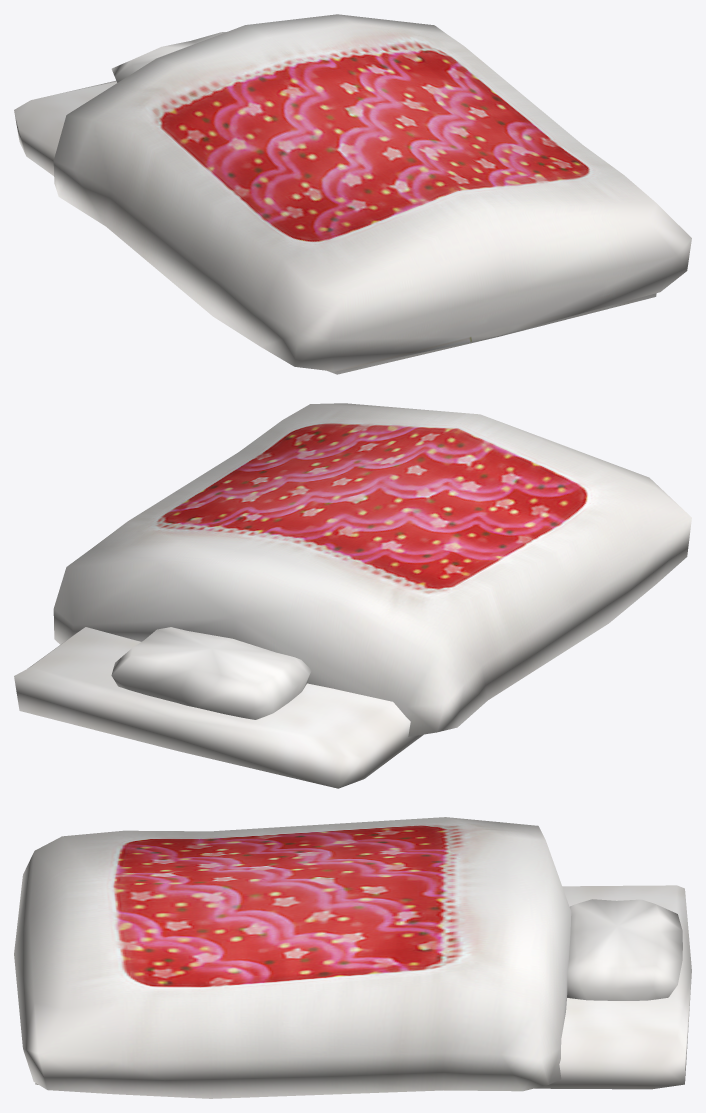
Rendered from JapaneseFuton_HD.fbx.
3 renders of one model, top to bottom at view 1: azimuth 30°, elevation 25°; view 2: azimuth 150°, elevation 25°; view 3: azimuth 270°, elevation 25°, orthographic. The views are drawn at different scales.
Visible parts, largest first — view 1: JapaneseFuton; view 2: JapaneseFuton; view 3: JapaneseFuton.
Boxes of the visible parts, left/top/right/bottom form: JapaneseFuton: left=14, top=14, right=691, bottom=374; JapaneseFuton: left=14, top=403, right=691, bottom=788; JapaneseFuton: left=14, top=817, right=691, bottom=1098.
Bounding box in the file's own units: 1.26 × 0.3937 × 1.82.
